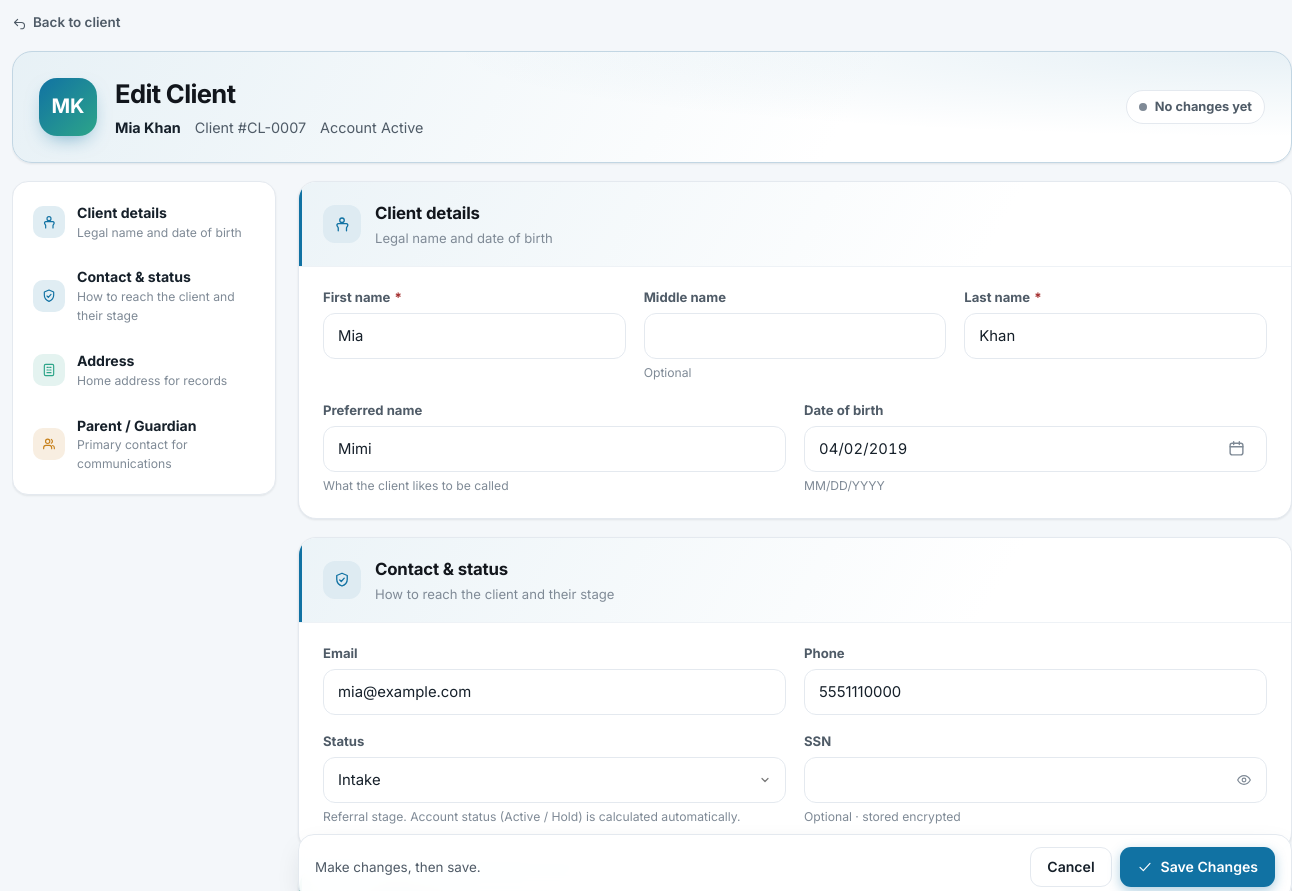
Test: Edit Client — redesigned form › server field errors are shown on the fields
The image size is (1292, 891).
Click the button "Save Changes" at (1197, 867), box [1120, 847, 1275, 887]
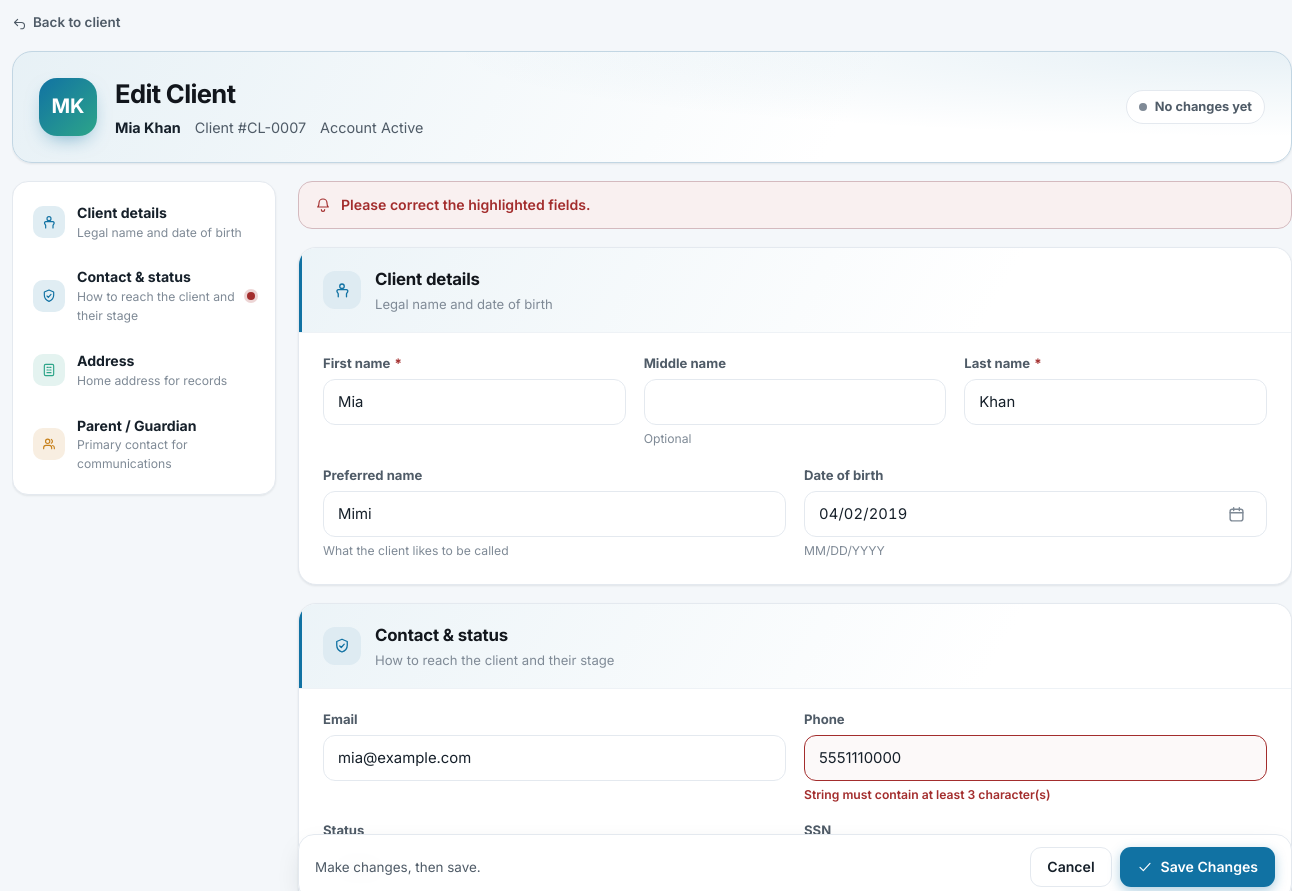
Check: the text with class "rx-ce__err" reads "String must contain at least 3 character(s)", box [804, 787, 1051, 802]
